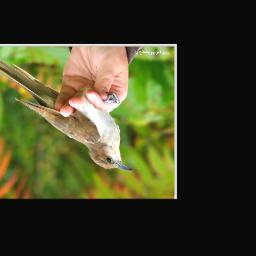Cuckoo: (0, 56, 134, 174)
